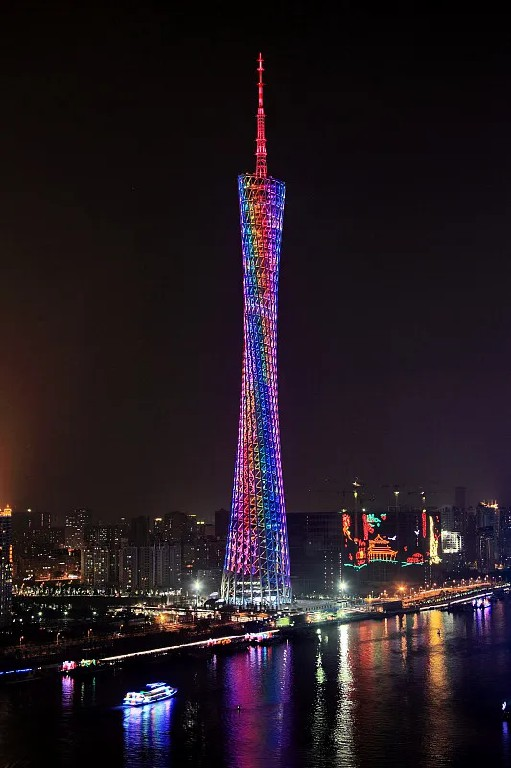Canton: (217, 51, 292, 608)
